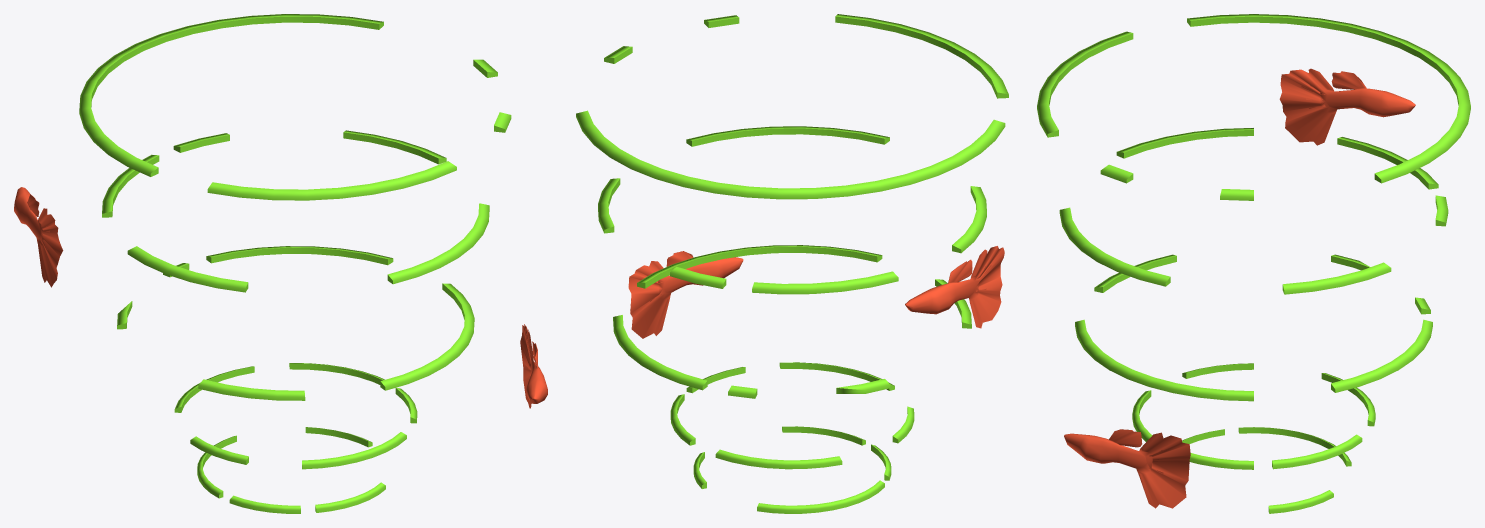
File: FUT0410072.fbx
The picture shows the model from 3 angles, left to right: view 1: azimuth 30°, elevation 25°; view 2: azimuth 150°, elevation 25°; view 3: azimuth 270°, elevation 25°; orthographic projection.
Parts seen in each view (by area): view 1: smFUT0410072; view 2: smFUT0410072; view 3: smFUT0410072.
Boxes of the visible parts, x1=… form: smFUT0410072: x1=14, y1=14, x2=547, y2=513; smFUT0410072: x1=576, y1=14, x2=1008, y2=513; smFUT0410072: x1=1037, y1=14, x2=1470, y2=513.
Bounding box in the file's own units: 844 × 709 × 754.
